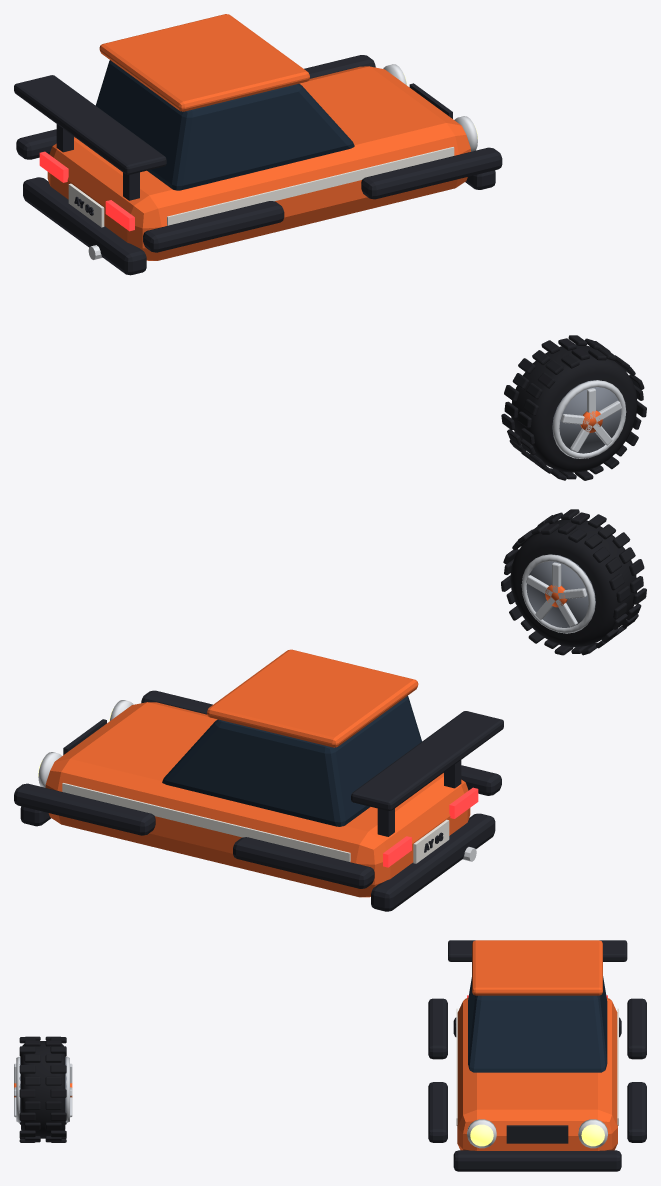
Rendered from car.glb.
3 renders of one model, top to bottom at view 1: azimuth 30°, elevation 25°; view 2: azimuth 150°, elevation 25°; view 3: azimuth 270°, elevation 25°, orthographic. The views are drawn at different scales.
Parts seen in each view (by area): view 1: body, wheel; view 2: body, wheel; view 3: body, wheel.
Boxes of the visible parts, left/top/right/bottom form: body: left=14, top=14, right=502, bottom=275; wheel: left=501, top=335, right=646, bottom=480; body: left=14, top=649, right=503, bottom=911; wheel: left=501, top=509, right=646, bottom=655; body: left=428, top=940, right=646, bottom=1171; wheel: left=14, top=1036, right=72, bottom=1142.
Size of the model in its own units: 2.76 by 1.36 by 5.12.
